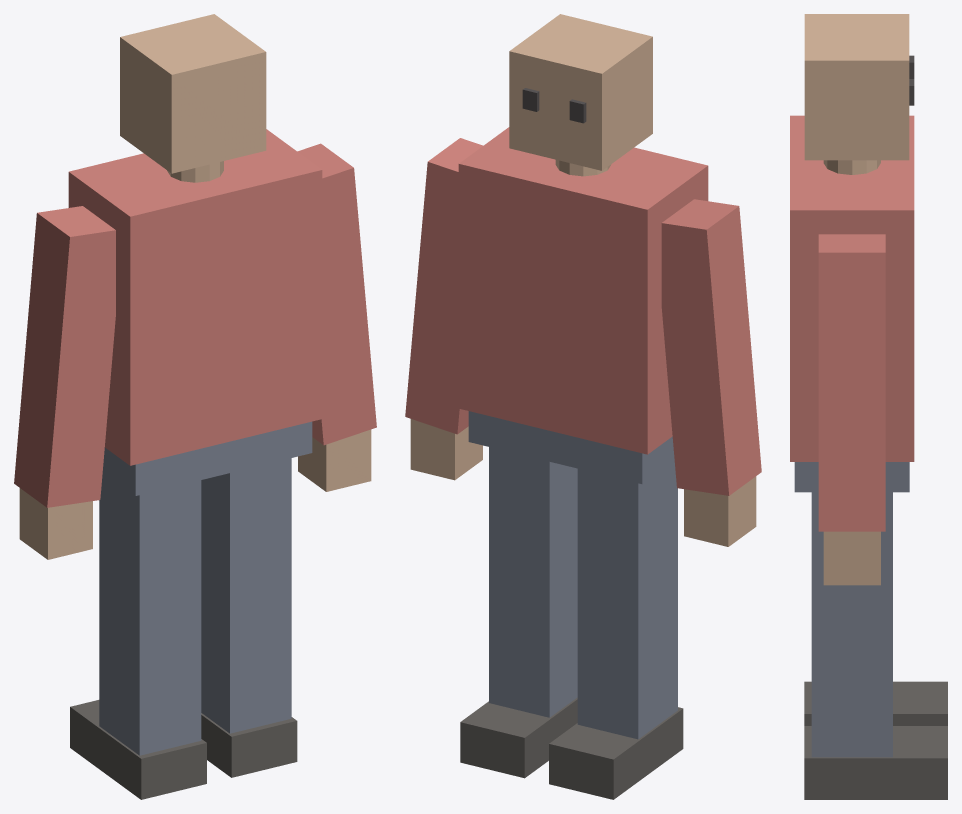
The model's file is civ_03.glb.
3 renders of one model, left to right at view 1: azimuth 30°, elevation 25°; view 2: azimuth 150°, elevation 25°; view 3: azimuth 270°, elevation 25°, orthographic. The views are drawn at different scales.
Visible parts, largest first — view 1: civ_03_torso, civ_03_leg_L, civ_03_arm_L, civ_03_leg_R, civ_03_head, civ_03_arm_R, civ_03_pelvis, civ_03_shoe_L, civ_03_shoe_R, civ_03_hand_L, civ_03_hand_R, civ_03_neck; view 2: civ_03_torso, civ_03_leg_L, civ_03_arm_L, civ_03_leg_R, civ_03_head, civ_03_arm_R, civ_03_shoe_L, civ_03_pelvis, civ_03_shoe_R, civ_03_hand_L, civ_03_hand_R; view 3: civ_03_torso, civ_03_arm_R, civ_03_leg_R, civ_03_head, civ_03_shoe_R, civ_03_hand_R, civ_03_shoe_L, civ_03_pelvis, civ_03_neck.
Boxes of the visible parts, bbox=[...] form: civ_03_torso: bbox=[68, 129, 322, 465]; civ_03_leg_L: bbox=[99, 472, 201, 755]; civ_03_arm_L: bbox=[14, 206, 115, 507]; civ_03_leg_R: bbox=[201, 458, 291, 733]; civ_03_head: bbox=[120, 14, 266, 173]; civ_03_arm_R: bbox=[297, 143, 376, 445]; civ_03_pelvis: bbox=[102, 421, 312, 495]; civ_03_shoe_L: bbox=[70, 700, 206, 799]; civ_03_shoe_R: bbox=[201, 713, 297, 777]; civ_03_hand_L: bbox=[19, 488, 92, 559]; civ_03_hand_R: bbox=[298, 429, 371, 491]; civ_03_neck: bbox=[167, 161, 223, 182]; civ_03_torso: bbox=[458, 127, 708, 454]; civ_03_leg_L: bbox=[577, 461, 677, 739]; civ_03_arm_L: bbox=[661, 199, 761, 495]; civ_03_leg_R: bbox=[489, 447, 577, 717]; civ_03_head: bbox=[509, 14, 652, 170]; civ_03_arm_R: bbox=[405, 138, 482, 434]; civ_03_shoe_L: bbox=[549, 707, 683, 799]; civ_03_pelvis: bbox=[468, 411, 674, 484]; civ_03_shoe_R: bbox=[460, 697, 577, 778]; civ_03_hand_L: bbox=[684, 476, 756, 546]; civ_03_hand_R: bbox=[410, 419, 482, 480]; civ_03_torso: bbox=[790, 115, 914, 461]; civ_03_arm_R: bbox=[818, 234, 885, 531]; civ_03_leg_R: bbox=[811, 492, 892, 757]; civ_03_head: bbox=[804, 14, 909, 160]; civ_03_shoe_R: bbox=[804, 726, 947, 799]; civ_03_hand_R: bbox=[823, 531, 880, 585]; civ_03_shoe_L: bbox=[804, 681, 947, 725]; civ_03_pelvis: bbox=[794, 462, 909, 492]; civ_03_neck: bbox=[823, 160, 880, 174].
Size of the model in its own units: 0.7551 by 1.57 by 0.3102.
